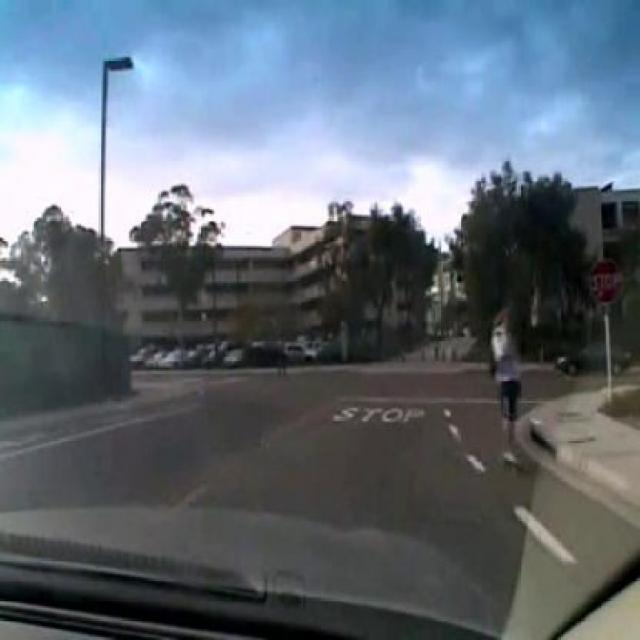traffic_sign: (587, 257, 624, 309)
